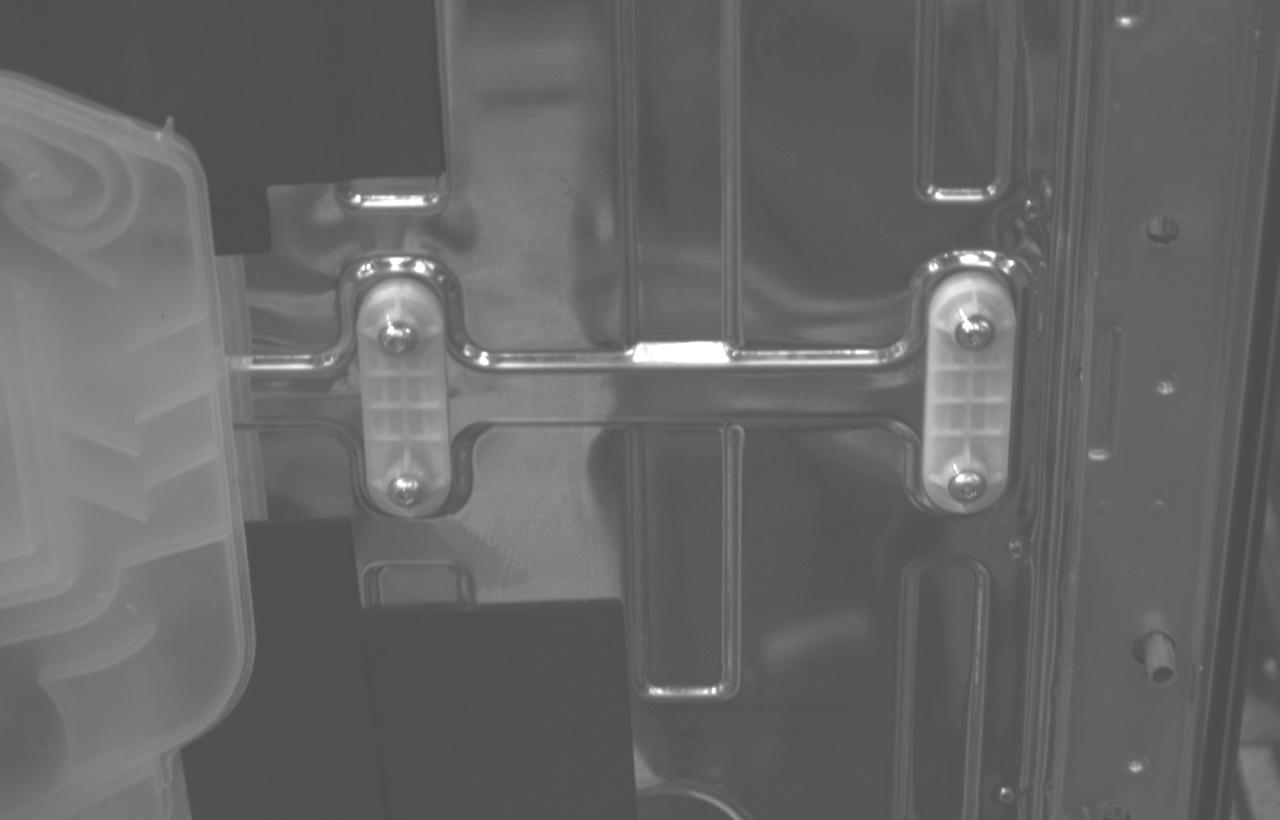vida-ok: (955, 314, 995, 352), (378, 320, 419, 357), (949, 470, 987, 504), (387, 475, 423, 508)
